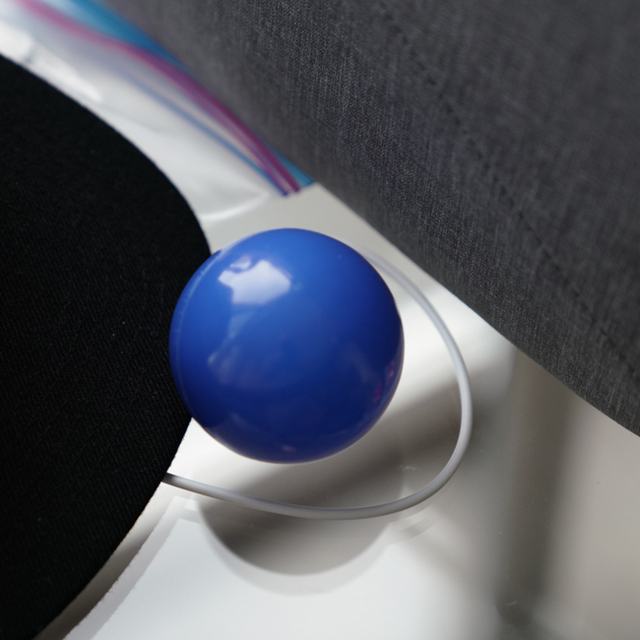Ball: (169, 230, 405, 465)
